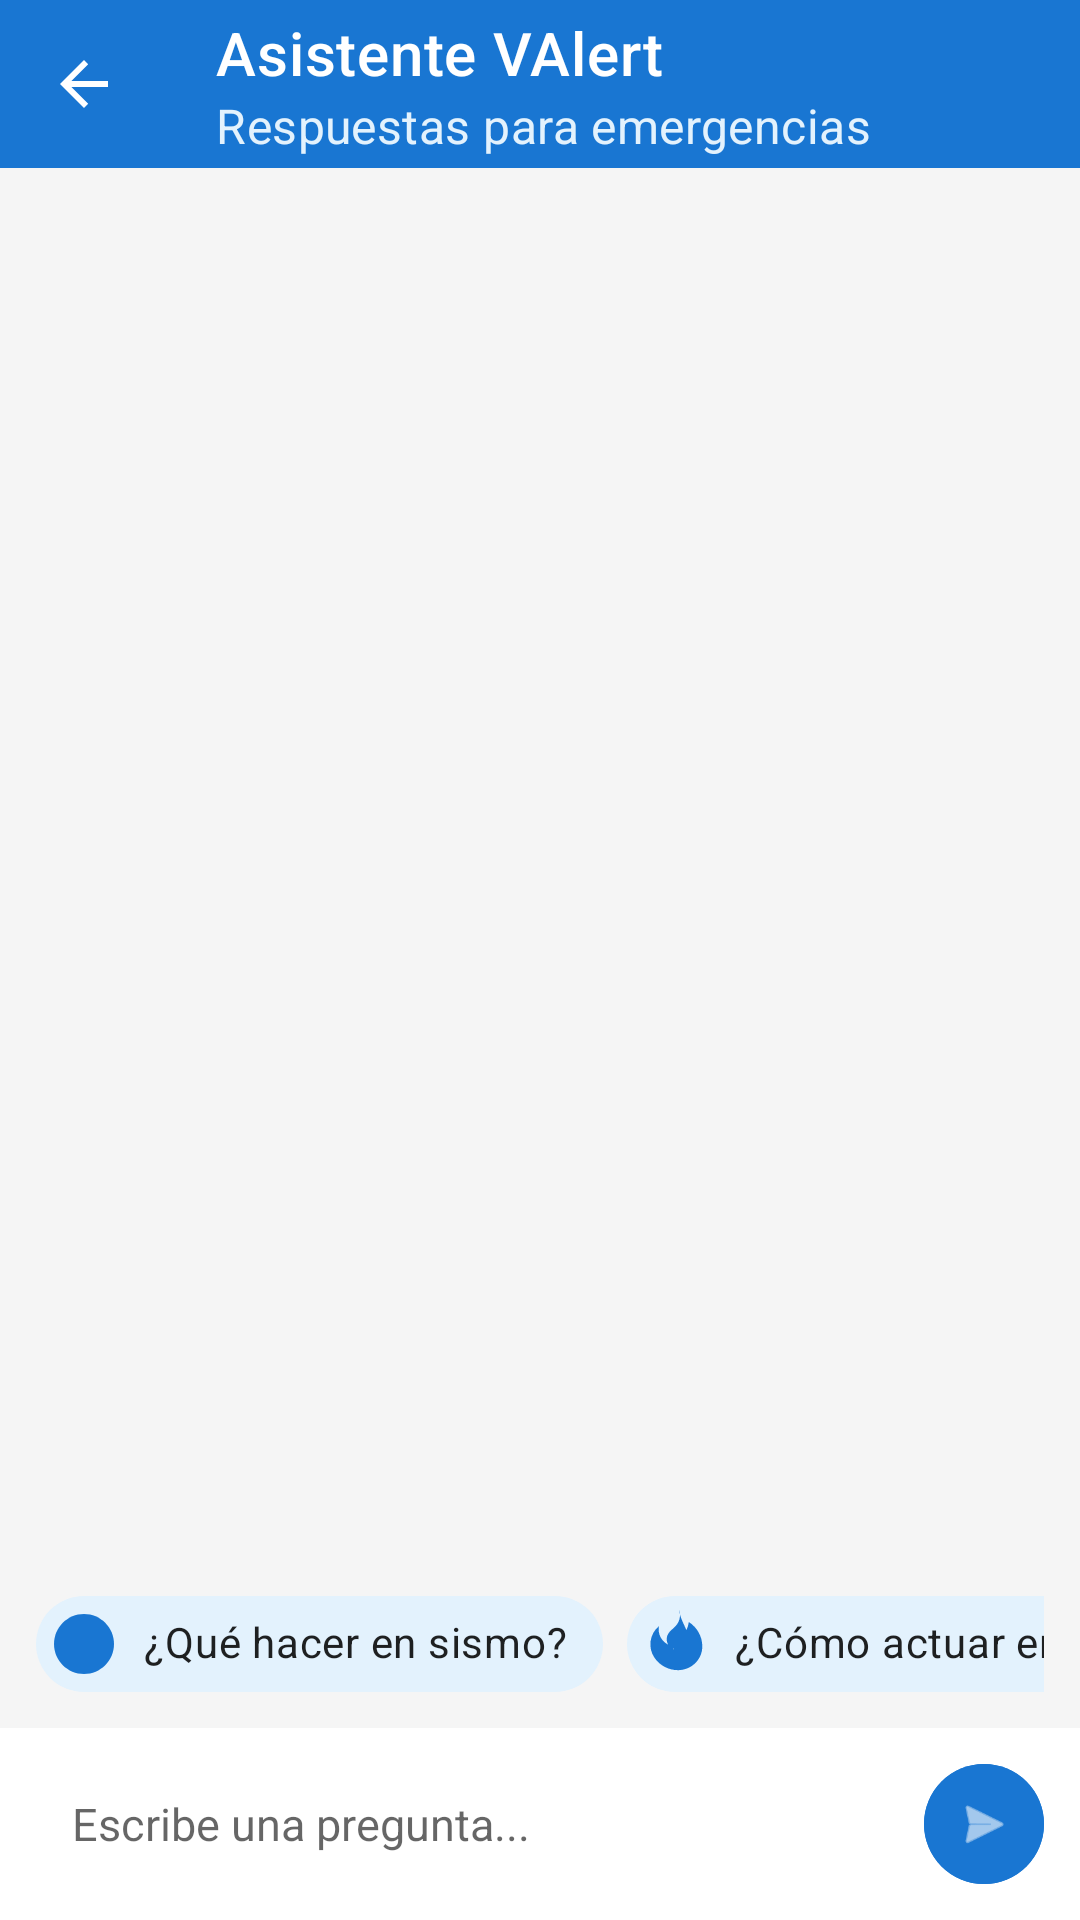

Screen size 1080*1920. Icon name, then its center in pixels as [x,y]:
Enviar mensaje: [984,1824]
